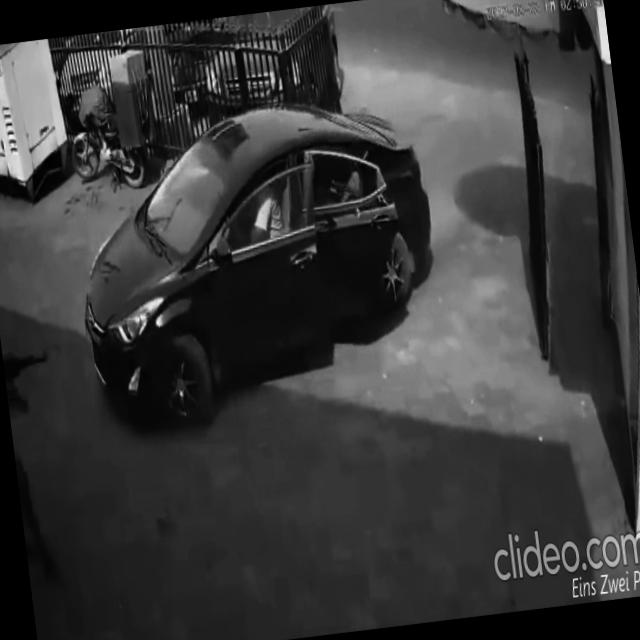gun: (2, 344, 52, 412)
